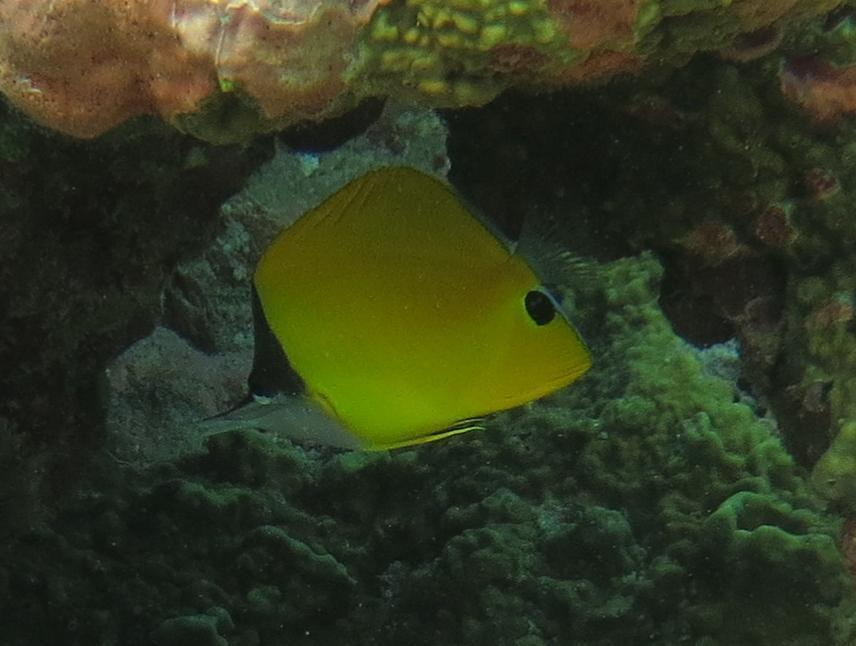Fish: (158, 127, 654, 537)
